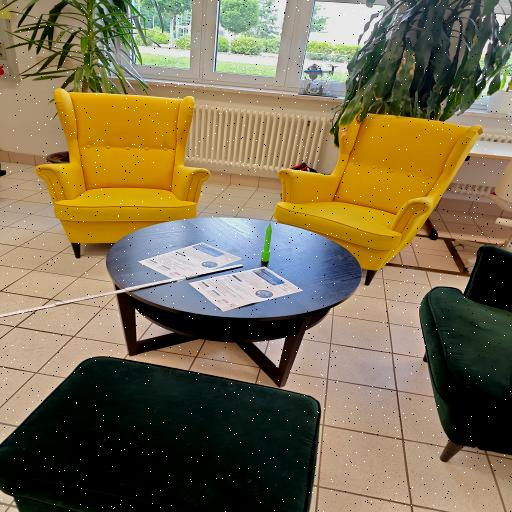Probe-Detection: (261, 222, 272, 262)
